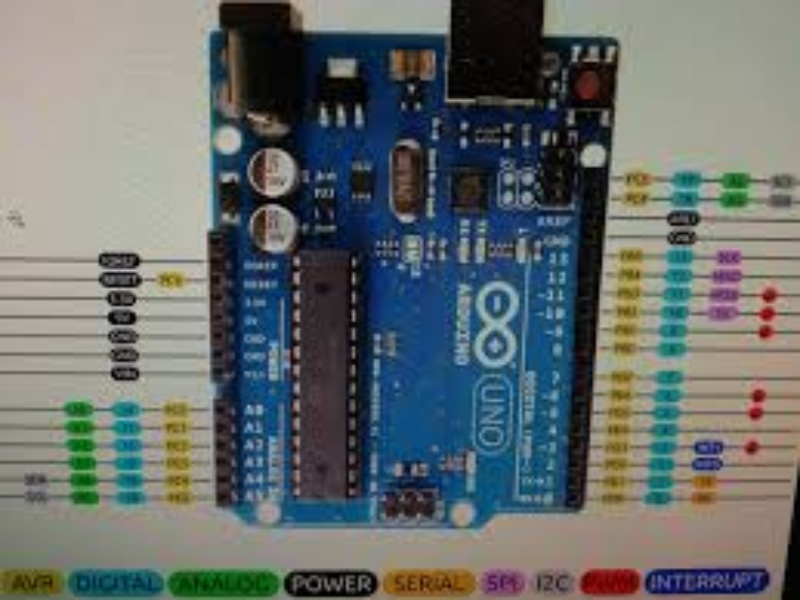uno: (195, 6, 615, 551)
